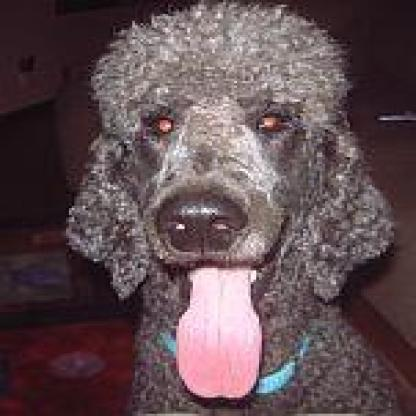standard_poodle: (52, 0, 402, 411)
